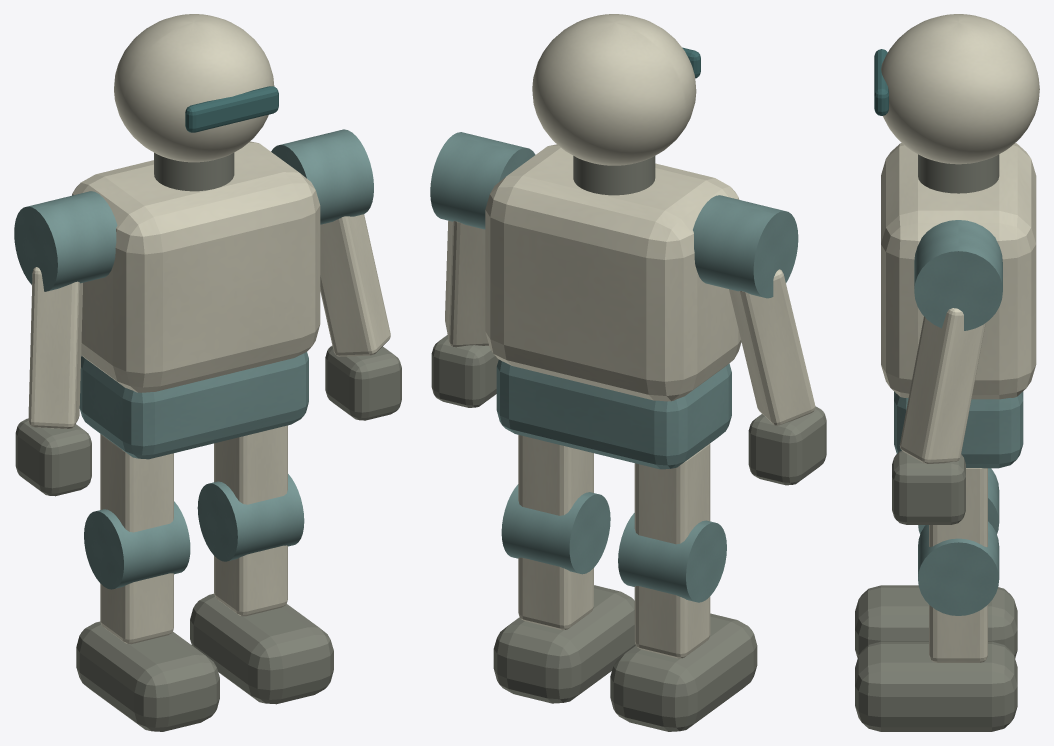
File: Robot_2m_Reference.glb
3 views of the same model, side by side, from view 1: azimuth 30°, elevation 25°; view 2: azimuth 150°, elevation 25°; view 3: azimuth 270°, elevation 25° (orthographic). The views are drawn at different scales.
Parts seen in each view (by area): view 1: Robot_2m_Reference; view 2: Robot_2m_Reference; view 3: Robot_2m_Reference.
Part boxes in pixels (x1,y1,x2,y2): Robot_2m_Reference: (14, 14, 401, 731); Robot_2m_Reference: (430, 14, 826, 731); Robot_2m_Reference: (855, 14, 1039, 731).
Bounding box in the file's own units: 1.14 × 2 × 0.5.
Materials: 4 (2 with a texture image).
